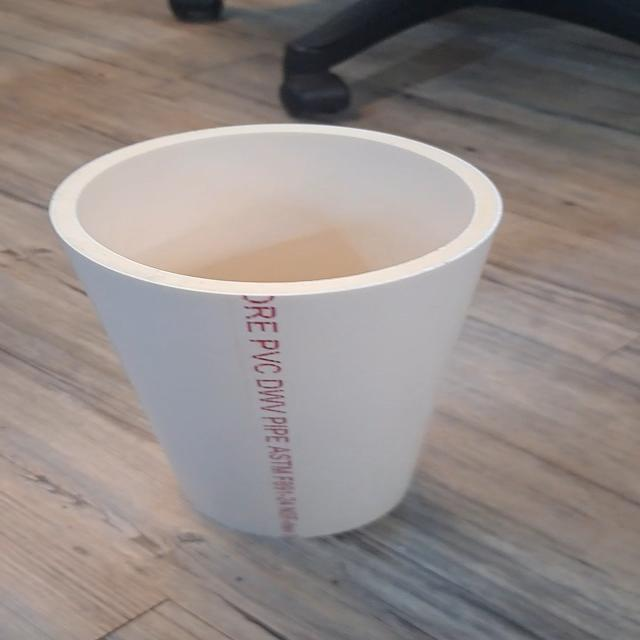CORAL: (36, 112, 523, 548)
